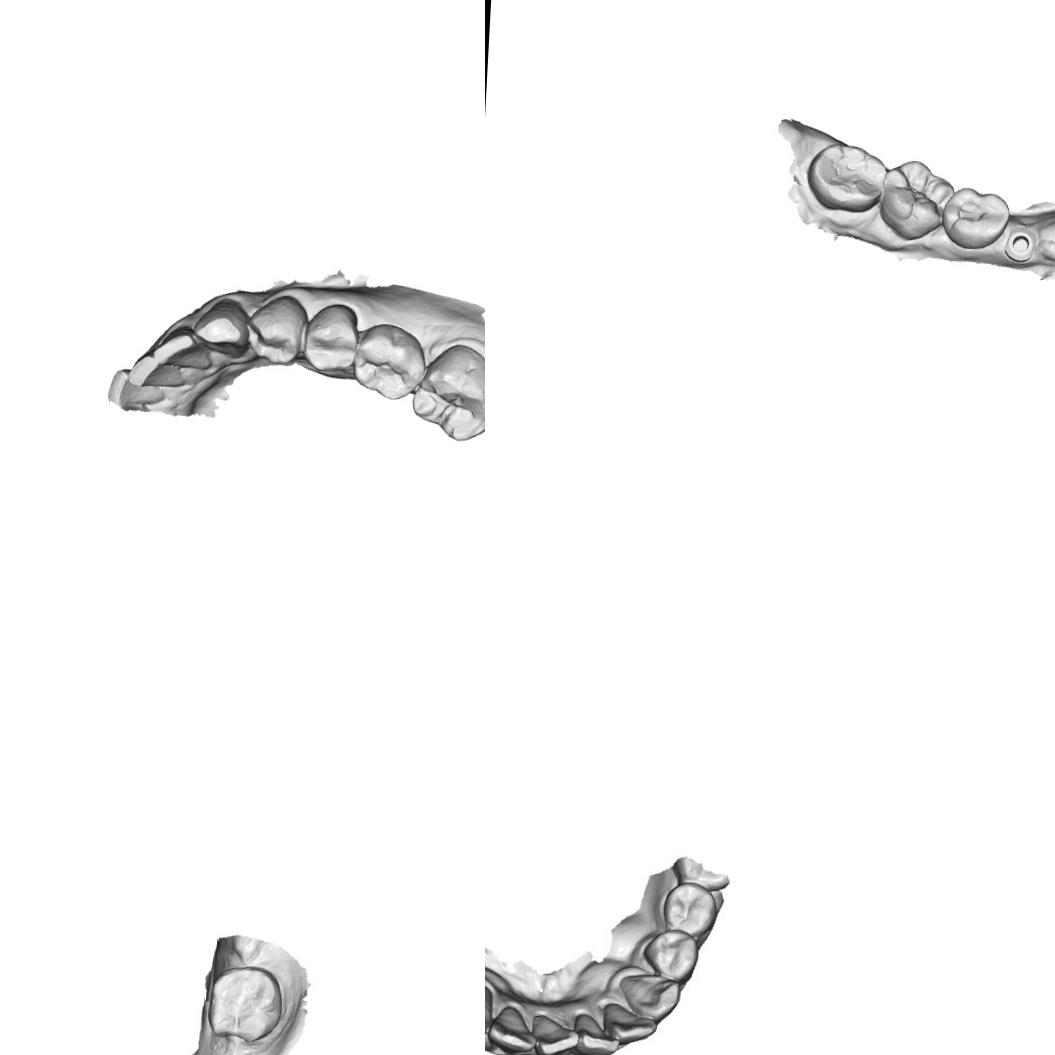canine: (194, 296, 250, 358), (620, 970, 682, 1020)
implant: (1001, 224, 1039, 264)
incisor: (146, 327, 213, 372), (103, 367, 166, 412), (491, 996, 535, 1055), (530, 1011, 585, 1055), (126, 351, 186, 391), (606, 1000, 658, 1044), (579, 1008, 624, 1055)
molar: (407, 338, 485, 443), (348, 318, 430, 404), (877, 156, 956, 243), (204, 962, 285, 1046), (804, 139, 888, 214)
premolar: (938, 186, 1011, 252), (298, 300, 360, 375), (244, 293, 307, 365), (636, 926, 698, 984), (659, 881, 719, 938)
